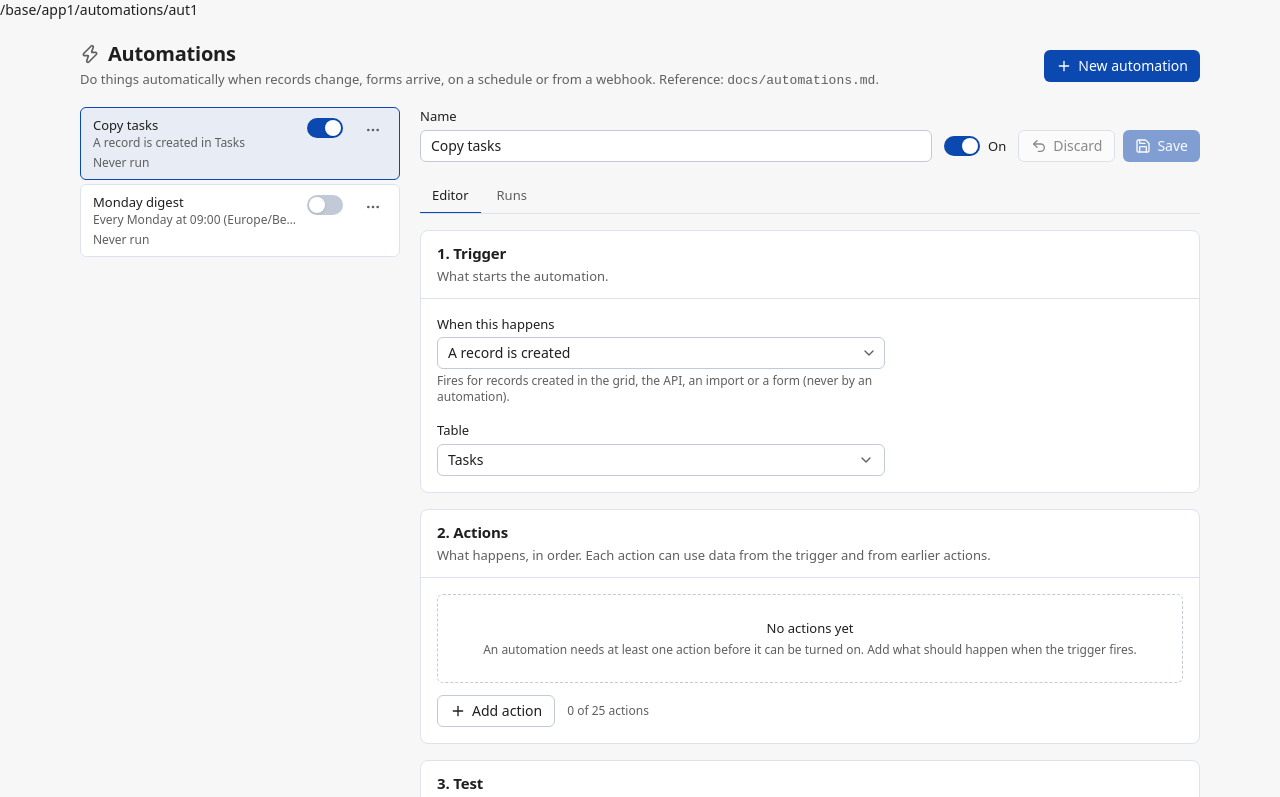
Scenario: the list › deletes after confirming and leaves the deleted automation's page
The image size is (1280, 797).
Expected: the heading "Automations" is shown, [80,40,236,67]
Click the button named "Options for Copy tasks" at (373, 130), box [359,116,387,144]
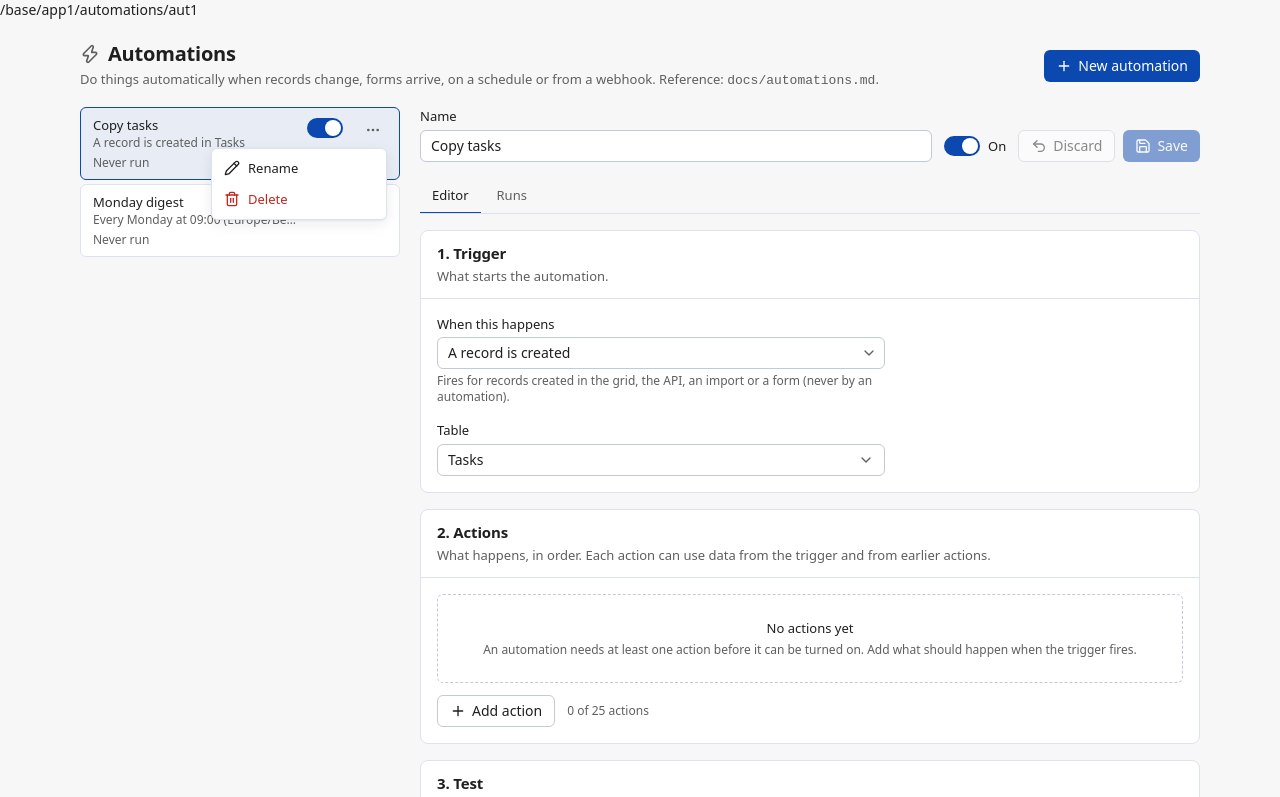
Click the menu item "Delete" at (256, 199), box [224,190,288,208]
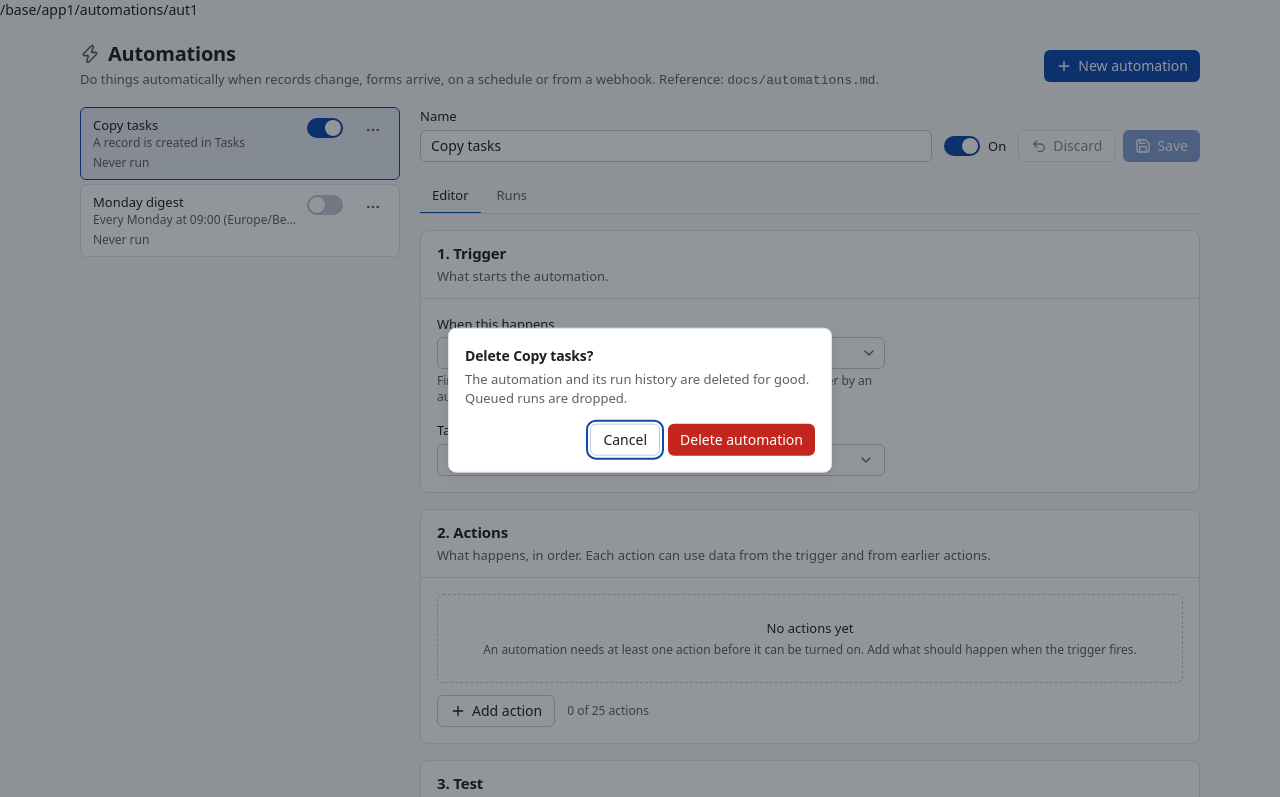
Expected: the text "run history are deleted for good" is shown, [465,370,809,406]
Click the button "Delete automation" at (742, 439), box [668,423,815,455]
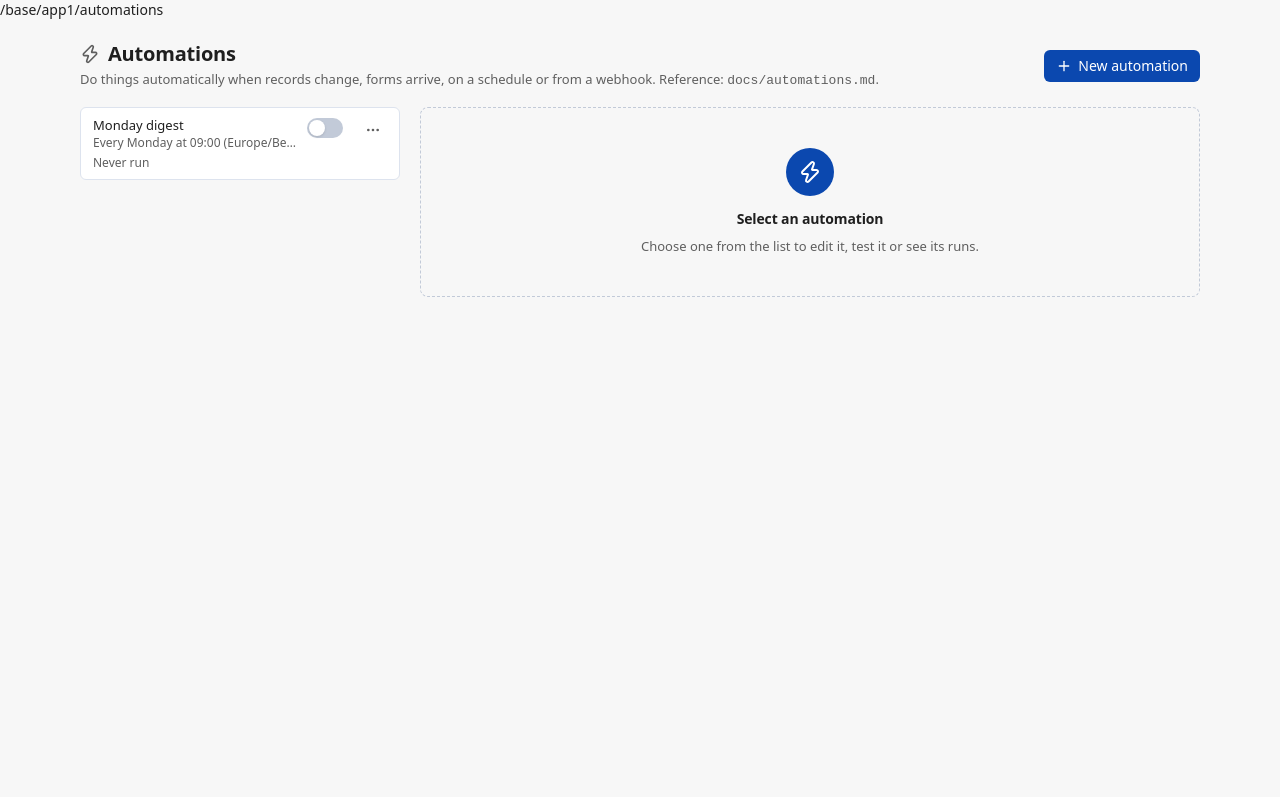
Expected: the link "Copy tasks" is gone
Expected: the text named "location" reads "/base/app1/automations", [0,0,163,19]
